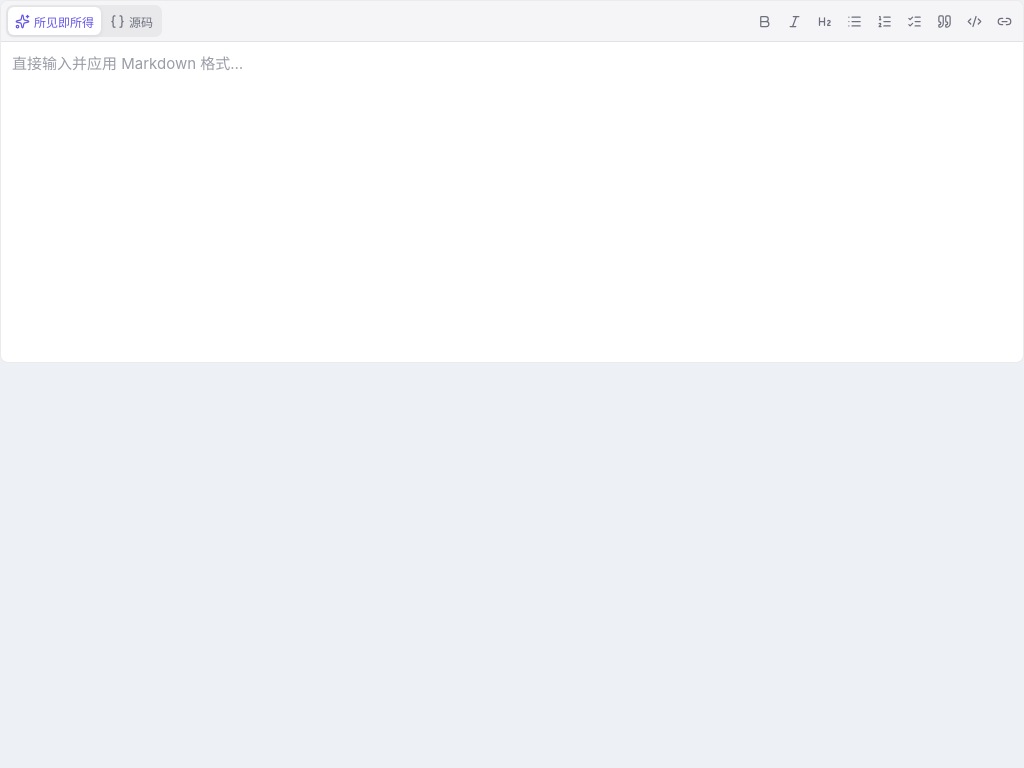
it: MarkdownEditor › opens an in-app link dialog instead of window.prompt
Click the button named "链接".
click(1004, 21)  # box 990,7 -> 1018,35
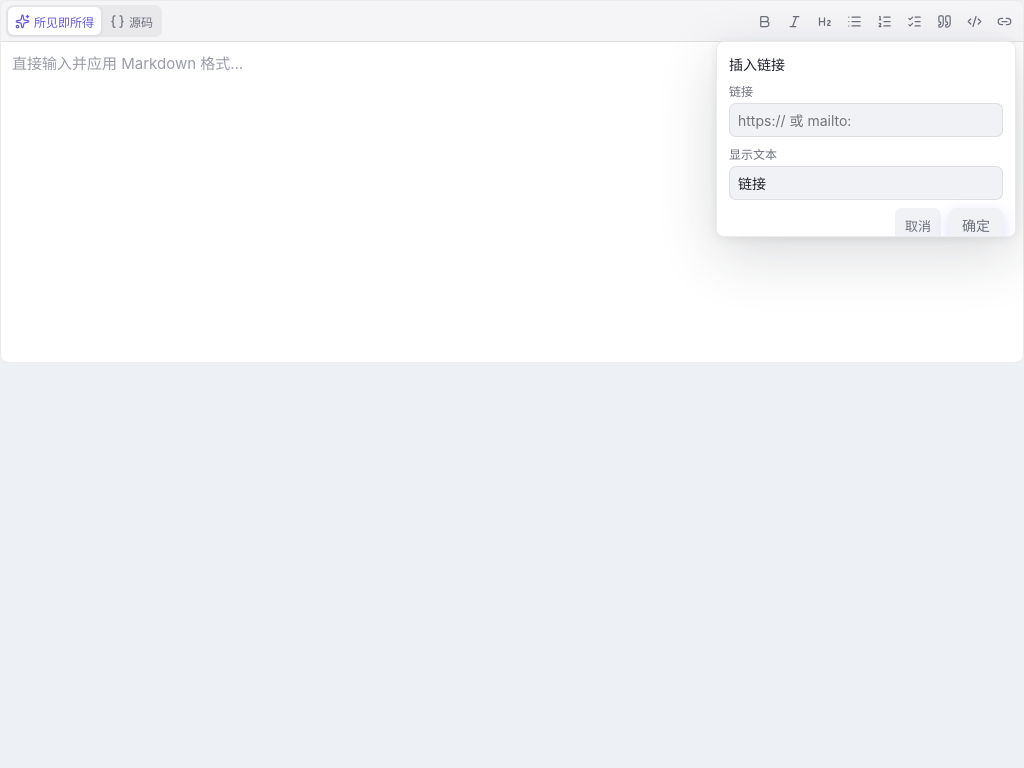
Result: the dialog "插入链接" is shown at 716,41 -> 1016,237
Result: the field named "链接地址" is shown
Type "https://example.com" into the field named "链接地址".
click(866, 120); type("https://example.com")  # box 729,103 -> 1003,137
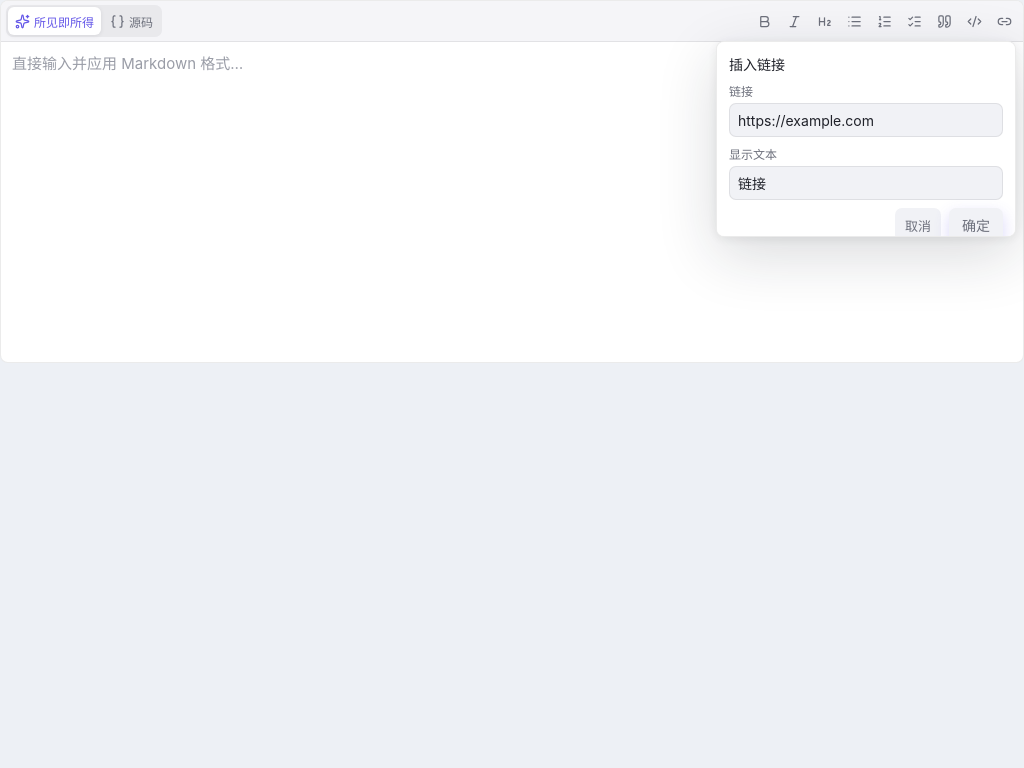
Click the button "确定".
click(976, 225)  # box 949,208 -> 1003,242
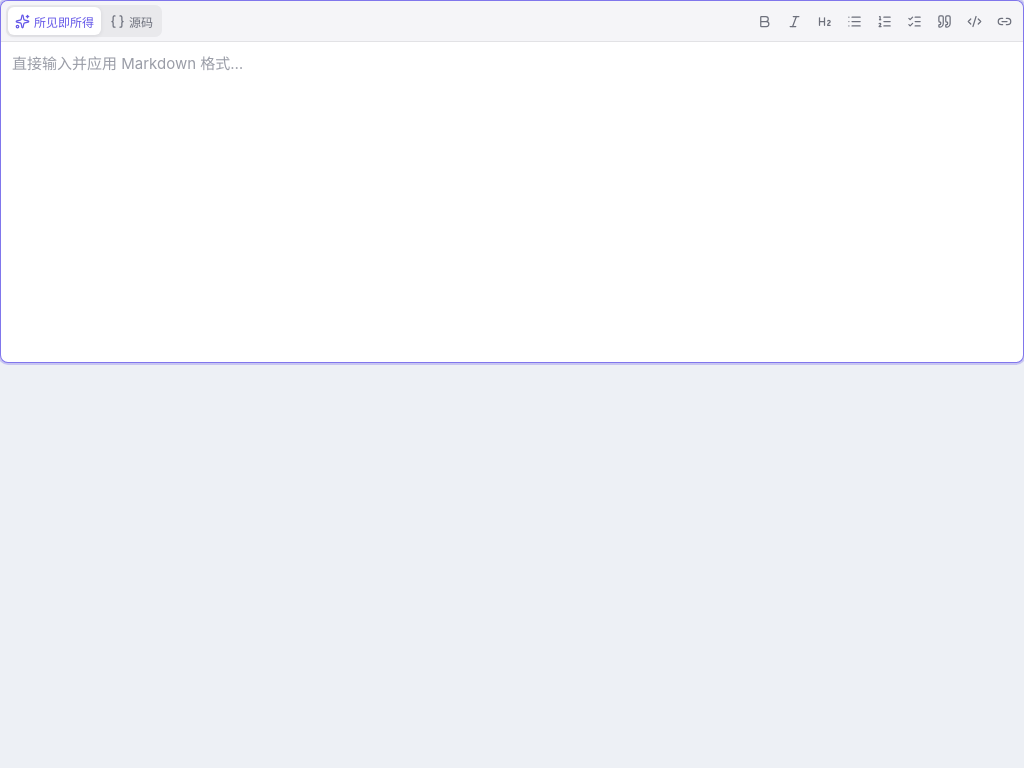
Result: the text "插入链接" is gone
